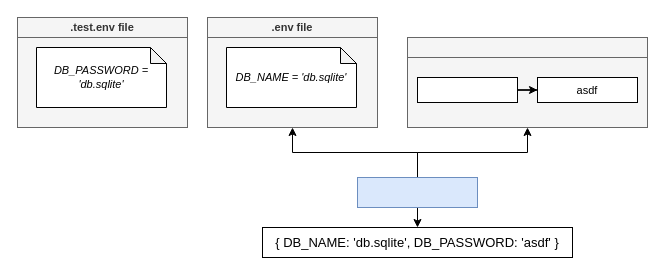
Image size: 665x275. Some labels were removed from this diagram. The shapes that lost their labels are listed below. From the top down, each one's centre as x and y in pixels, then its label:
At (x=527, y=47): "Normal Environment Variables".
At (x=467, y=89): "DB_PASSWORD".
At (x=417, y=192): "dotenv".
